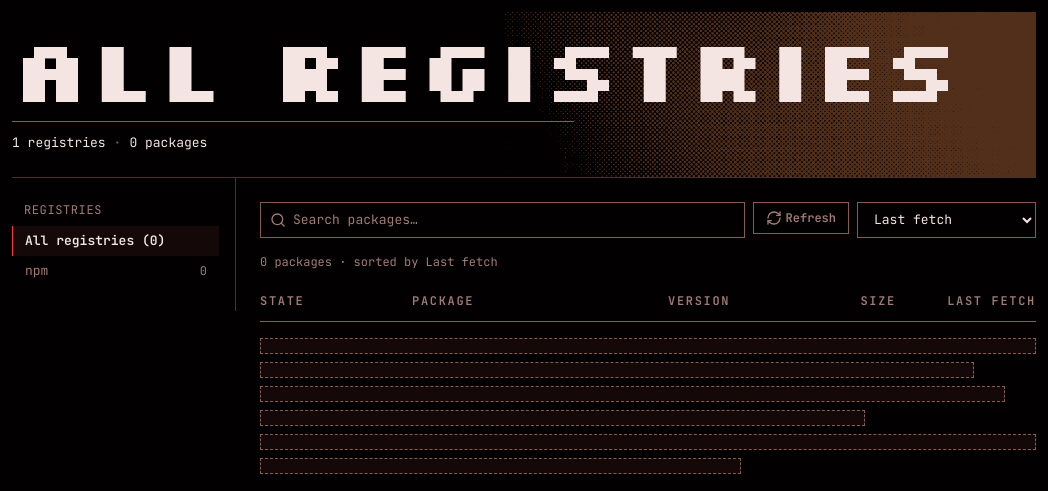
Test: PackageCatalog › a slow first response does not overwrite a fast second
Select "Name A–Z" in the dropdown named "Sort packages" at (946, 220), box [857,202,1036,238]
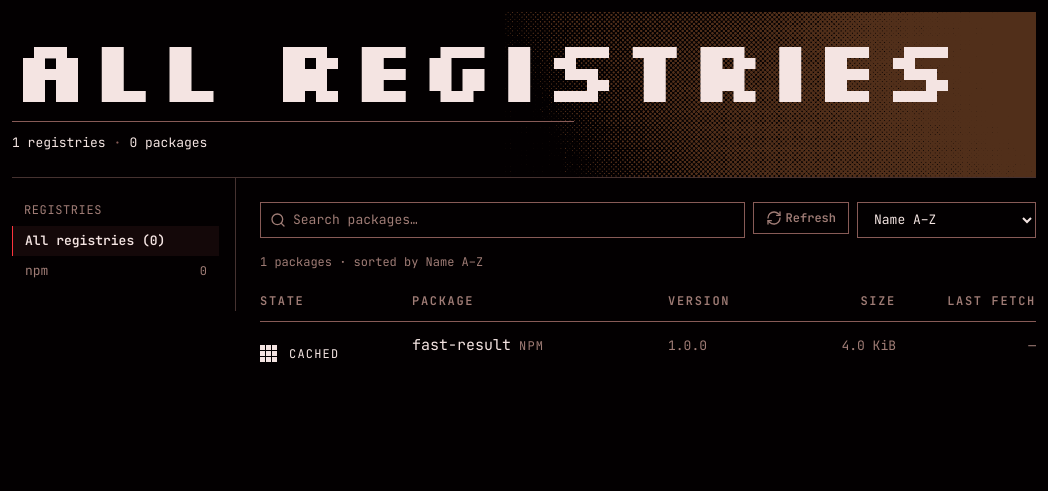
Result: the text "fast-result" is shown at [412,335,511,355]
